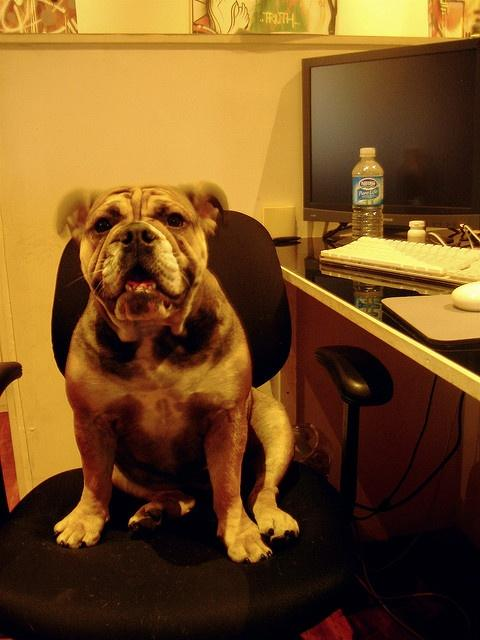AIO PC-Monitor-TV: (301, 32, 479, 230)
Kursi: (0, 206, 393, 639)
